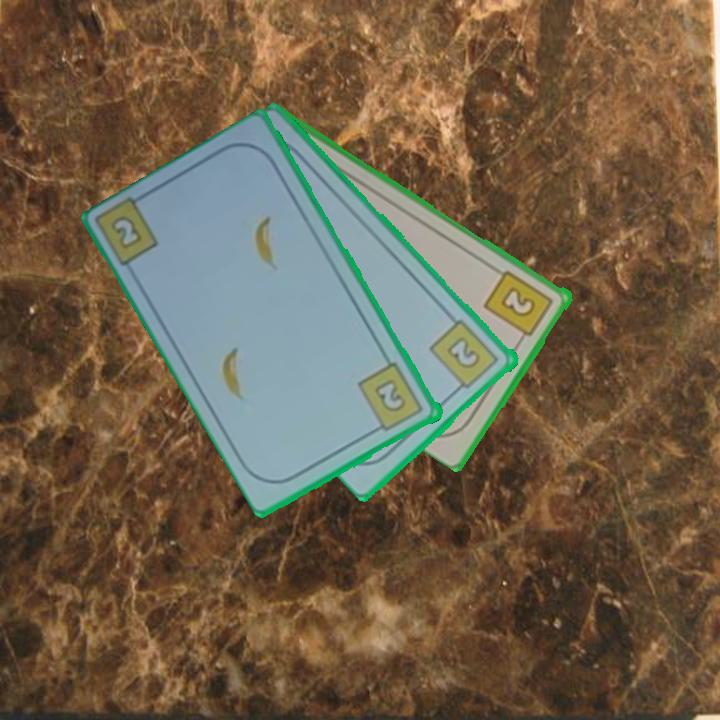2b: (426, 316, 503, 396), (481, 266, 557, 346), (355, 359, 427, 436), (110, 212, 146, 253)
